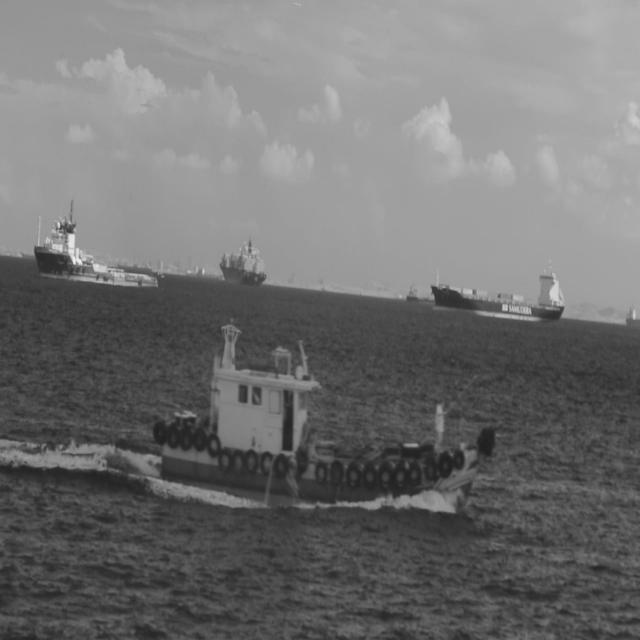buoy: (220, 314, 242, 368)
ship: (152, 337, 496, 516), (31, 196, 159, 290), (430, 257, 566, 325), (218, 233, 268, 287), (406, 280, 434, 304), (186, 264, 224, 280), (117, 260, 152, 273), (152, 270, 165, 278)
